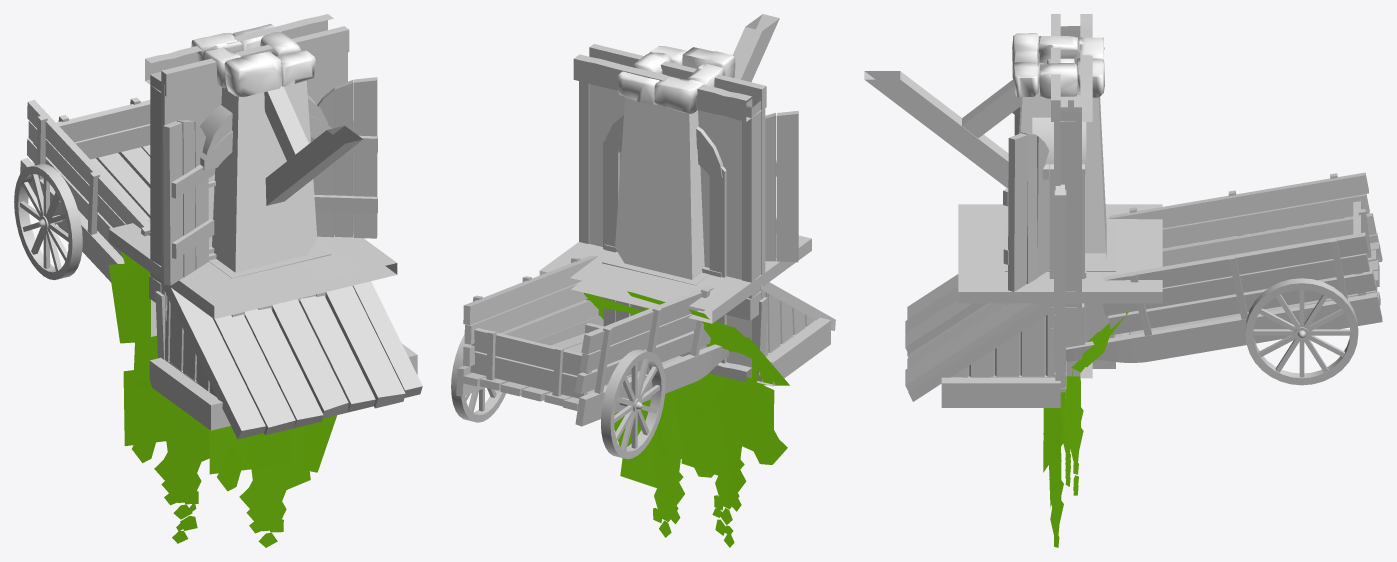
The model's file is tv_build.glb.
3 views of the same model, side by side, from view 1: azimuth 30°, elevation 25°; view 2: azimuth 150°, elevation 25°; view 3: azimuth 270°, elevation 25° (orthographic). The views are drawn at different scales.
Parts seen in each view (by area): view 1: Roof_Wooden_2x1, Prop_Wagon, Prop_Chimney, WindowShutters_Wide_Round_Open, Prop_Vine5, Roof_Wooden_2x1_Middle, Prop_Vine2, Prop_Support, Wall_Plaster_WoodGrid, Wall_Arch, Wall_Plaster_Window_Wide_Round, Wall_Plaster_Straight (+5 smaller); view 2: Prop_Wagon, Prop_Chimney, Prop_Vine5, Wall_Plaster_Straight, Roof_Wooden_2x1_Middle, Wall_Plaster_WoodGrid, WindowShutters_Wide_Round_Open, Roof_Wooden_2x1, Prop_Vine2, DoorFrame_Round_WoodDark, Wall_UnevenBrick_Straight, Window_Wide_Round1 (+6 smaller); view 3: Prop_Wagon, Roof_Wooden_2x1, Roof_Wooden_2x1_Middle, Prop_Chimney, WindowShutters_Wide_Round_Open, Prop_Support, Wall_Plaster_WoodGrid, Prop_Vine5, Door_1_Round, Prop_Vine2, Prop_Crate, DoorFrame_Round_WoodDark (+3 smaller).
Boxes of the visible parts, box(x1,y1,x2,y2) form: Roof_Wooden_2x1: box(149, 275, 422, 439); Prop_Wagon: box(14, 97, 150, 282); Prop_Chimney: box(191, 24, 317, 272); WindowShutters_Wide_Round_Open: box(163, 77, 377, 285); Prop_Vine5: box(108, 251, 209, 543); Roof_Wooden_2x1_Middle: box(108, 219, 397, 319); Prop_Vine2: box(209, 415, 336, 547); Prop_Support: box(264, 86, 363, 205); Wall_Plaster_WoodGrid: box(145, 14, 348, 336); Wall_Arch: box(161, 52, 347, 359); Wall_Plaster_Window_Wide_Round: box(145, 14, 348, 336); Wall_Plaster_Straight: box(145, 19, 349, 320); Prop_Wagon: box(451, 255, 729, 459); Prop_Chimney: box(615, 46, 735, 279); Prop_Vine5: box(584, 291, 789, 547); Wall_Plaster_Straight: box(573, 59, 761, 378); Roof_Wooden_2x1_Middle: box(539, 234, 811, 323); Wall_Plaster_WoodGrid: box(579, 44, 765, 320); WindowShutters_Wide_Round_Open: box(765, 110, 798, 262); Roof_Wooden_2x1: box(757, 282, 835, 386); Prop_Vine2: box(614, 385, 713, 537); DoorFrame_Round_WoodDark: box(603, 140, 726, 363); Wall_UnevenBrick_Straight: box(585, 44, 765, 298); Window_Wide_Round1: box(604, 115, 722, 277); Prop_Wagon: box(1066, 172, 1382, 385); Roof_Wooden_2x1: box(905, 274, 1060, 407); Roof_Wooden_2x1_Middle: box(958, 204, 1162, 303); Prop_Chimney: box(1012, 33, 1106, 258); WindowShutters_Wide_Round_Open: box(1003, 107, 1049, 291); Prop_Support: box(864, 71, 1021, 187); Wall_Plaster_WoodGrid: box(1051, 16, 1092, 328); Prop_Vine5: box(1061, 312, 1128, 495); Door_1_Round: box(1054, 184, 1066, 388); Prop_Vine2: box(1043, 392, 1064, 547); Prop_Crate: box(1005, 224, 1115, 368); DoorFrame_Round_WoodDark: box(1042, 164, 1084, 376).
Bounding box in the file's own units: 2.45 × 5.3 × 5.07.
